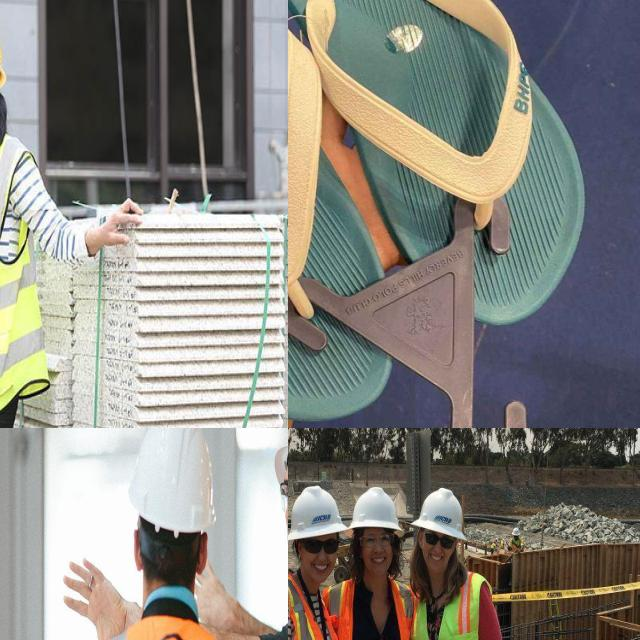No_Ear-Protection: (194, 528, 212, 579), (131, 522, 146, 572)
Sandals: (288, 0, 595, 428)
face_nomask: (271, 453, 288, 589), (302, 533, 340, 579), (361, 524, 395, 572), (425, 526, 453, 568)
glasses: (358, 527, 397, 551), (302, 536, 341, 558), (421, 530, 456, 552), (276, 474, 288, 518)
hand_noglove: (56, 543, 137, 640), (82, 196, 146, 259), (192, 562, 248, 624)
head_helmet: (129, 428, 222, 537), (288, 486, 347, 540), (411, 487, 468, 541), (350, 487, 404, 538)
person: (79, 428, 262, 640), (0, 9, 54, 428), (410, 485, 513, 640), (339, 487, 412, 640), (288, 485, 343, 640)
vest: (0, 152, 61, 403), (412, 569, 502, 640), (325, 580, 413, 640), (288, 571, 341, 640)
